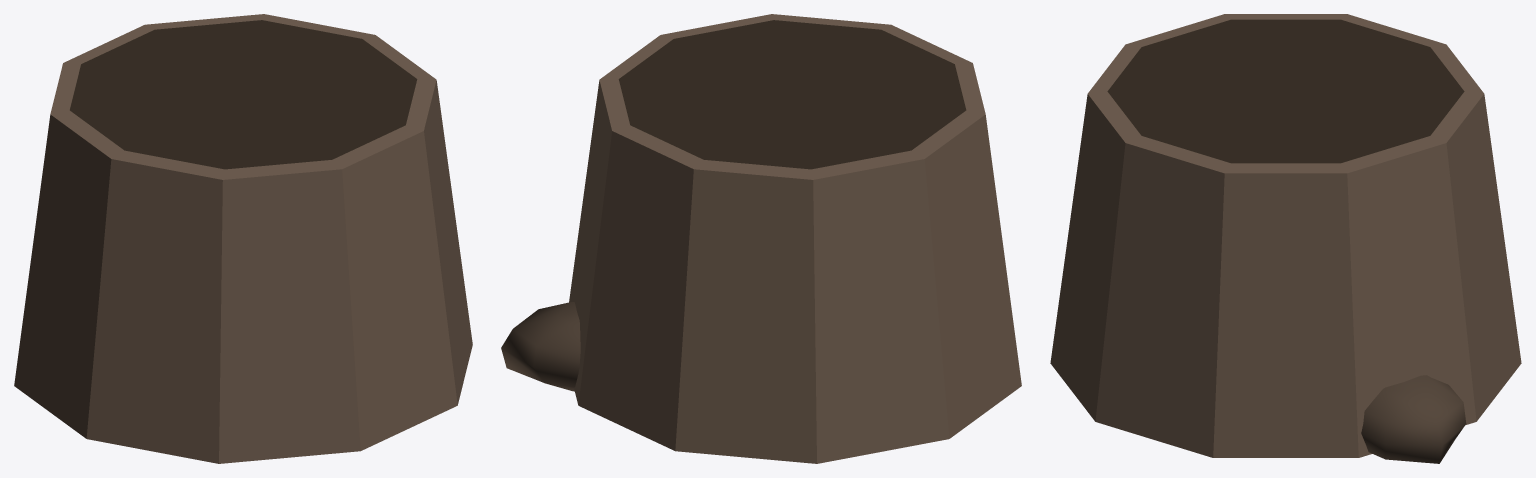
The model's file is prop-stump.glb.
3 renders of one model, left to right at view 1: azimuth 30°, elevation 25°; view 2: azimuth 150°, elevation 25°; view 3: azimuth 270°, elevation 25°, orthographic.
Visible parts, largest first — view 1: prop-stump; view 2: prop-stump; view 3: prop-stump.
Boxes of the visible parts, x1=… form: prop-stump: x1=14, y1=14, x2=472, y2=463; prop-stump: x1=501, y1=14, x2=1021, y2=463; prop-stump: x1=1050, y1=14, x2=1521, y2=463.
Size of the model in its own units: 0.1903 by 0.1298 by 0.19.
